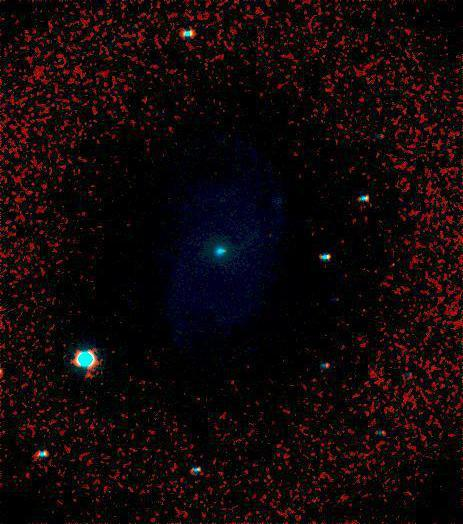star: (71, 363, 101, 393)
